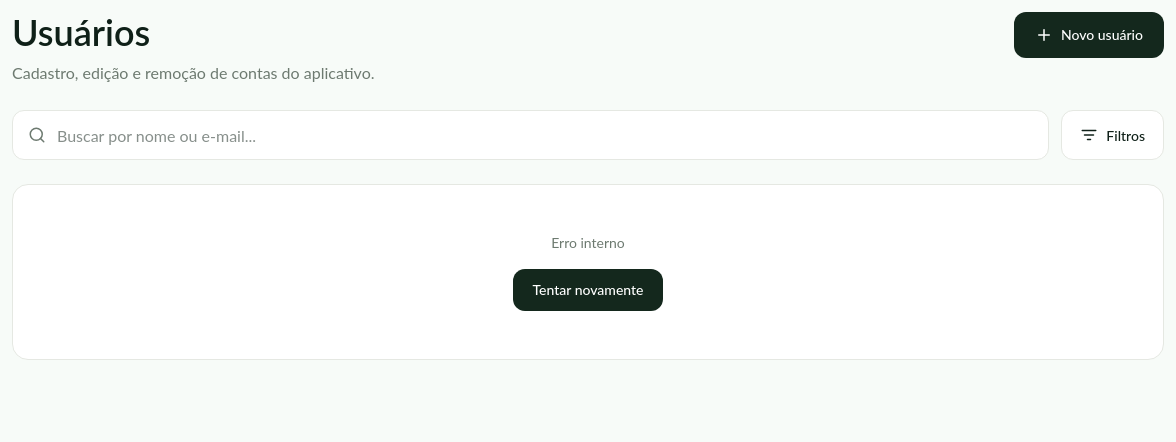
Users › shows the error state and retries
This screenshot has width=1176, height=442.
Expected: the message shows "Erro interno", [551, 234, 625, 251]
Click the button "Tentar novamente" at (588, 290), box [514, 269, 662, 311]
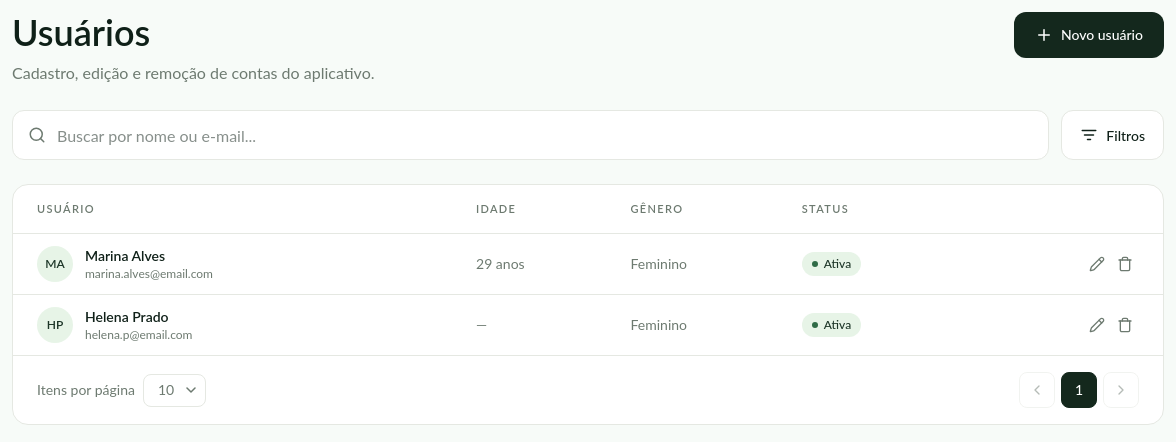
Now the text "Marina Alves" is shown, box [85, 247, 165, 264]
